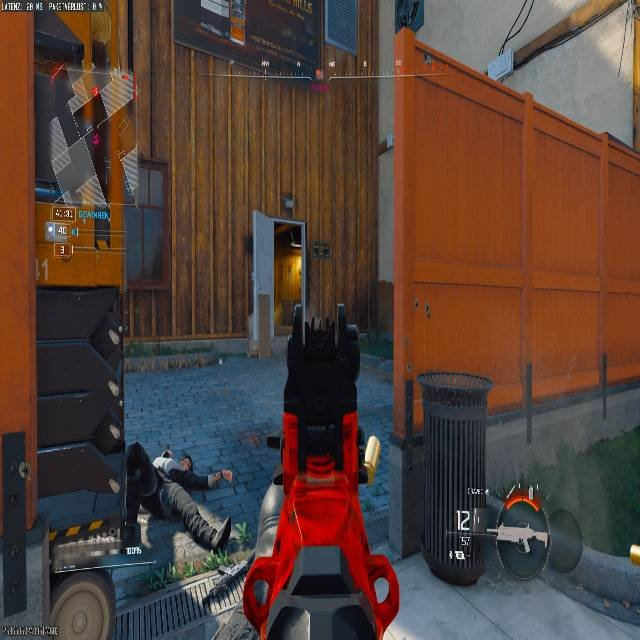head: (87, 39, 113, 72)
player: (56, 37, 137, 214)
